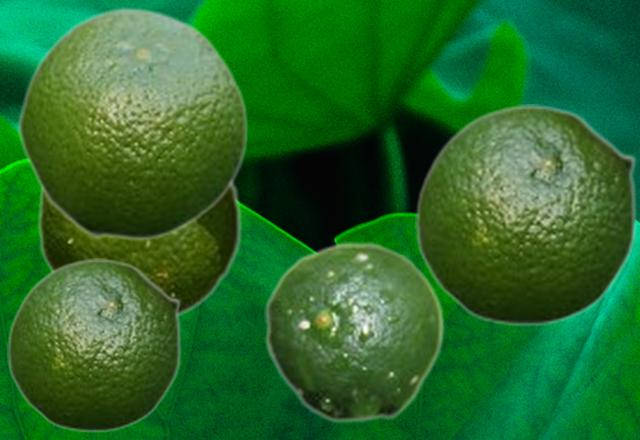calamansi: (16, 5, 248, 240), (415, 104, 637, 326), (264, 241, 444, 423), (7, 258, 181, 432), (36, 181, 242, 320)
